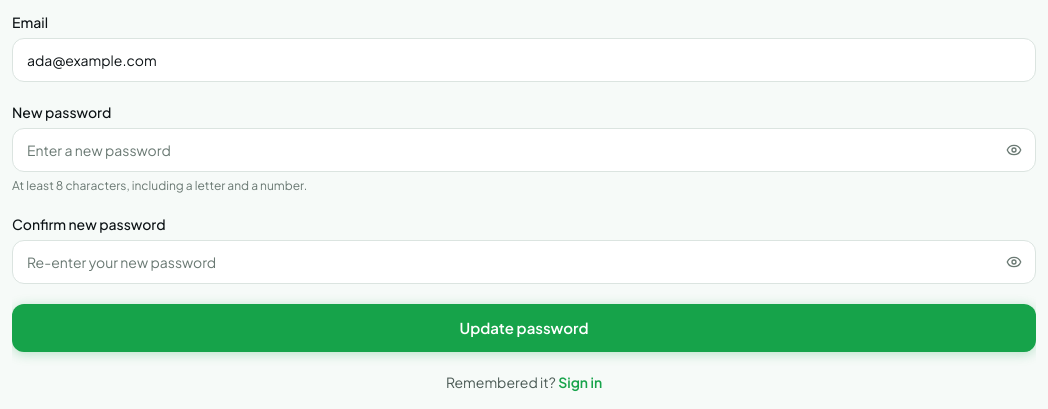
Test: ResetPasswordForm › submits the token with the new password and confirms success
Type "secret123" into the password field labelled "New password" at [524, 150], box [12,128,1036,172]
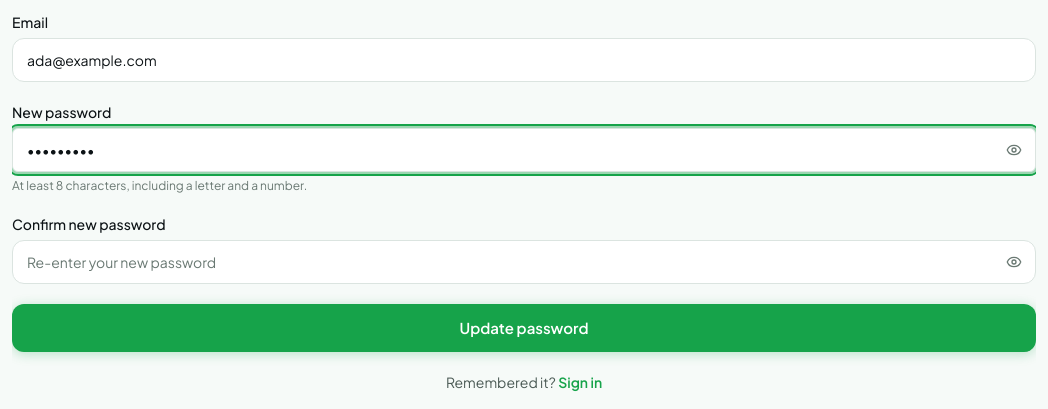
Type "secret123" into the password field labelled "Confirm new password" at [524, 262], box [12,240,1036,284]
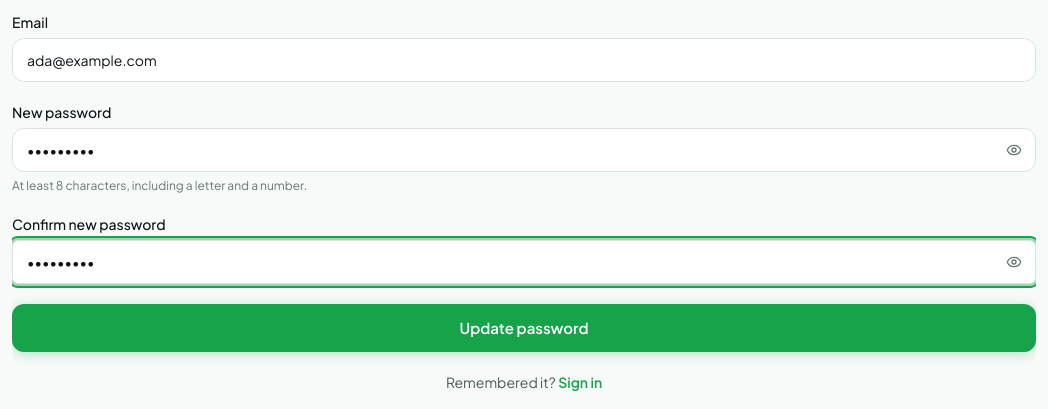
Click the button "Update password" at [524, 328], box [12,304,1036,352]
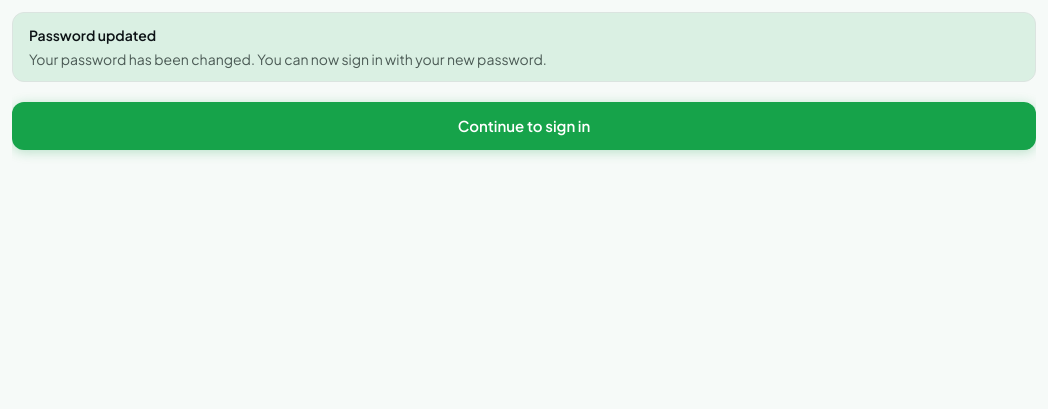
Check: the text "Password updated" is shown, box [29,26,156,44]
